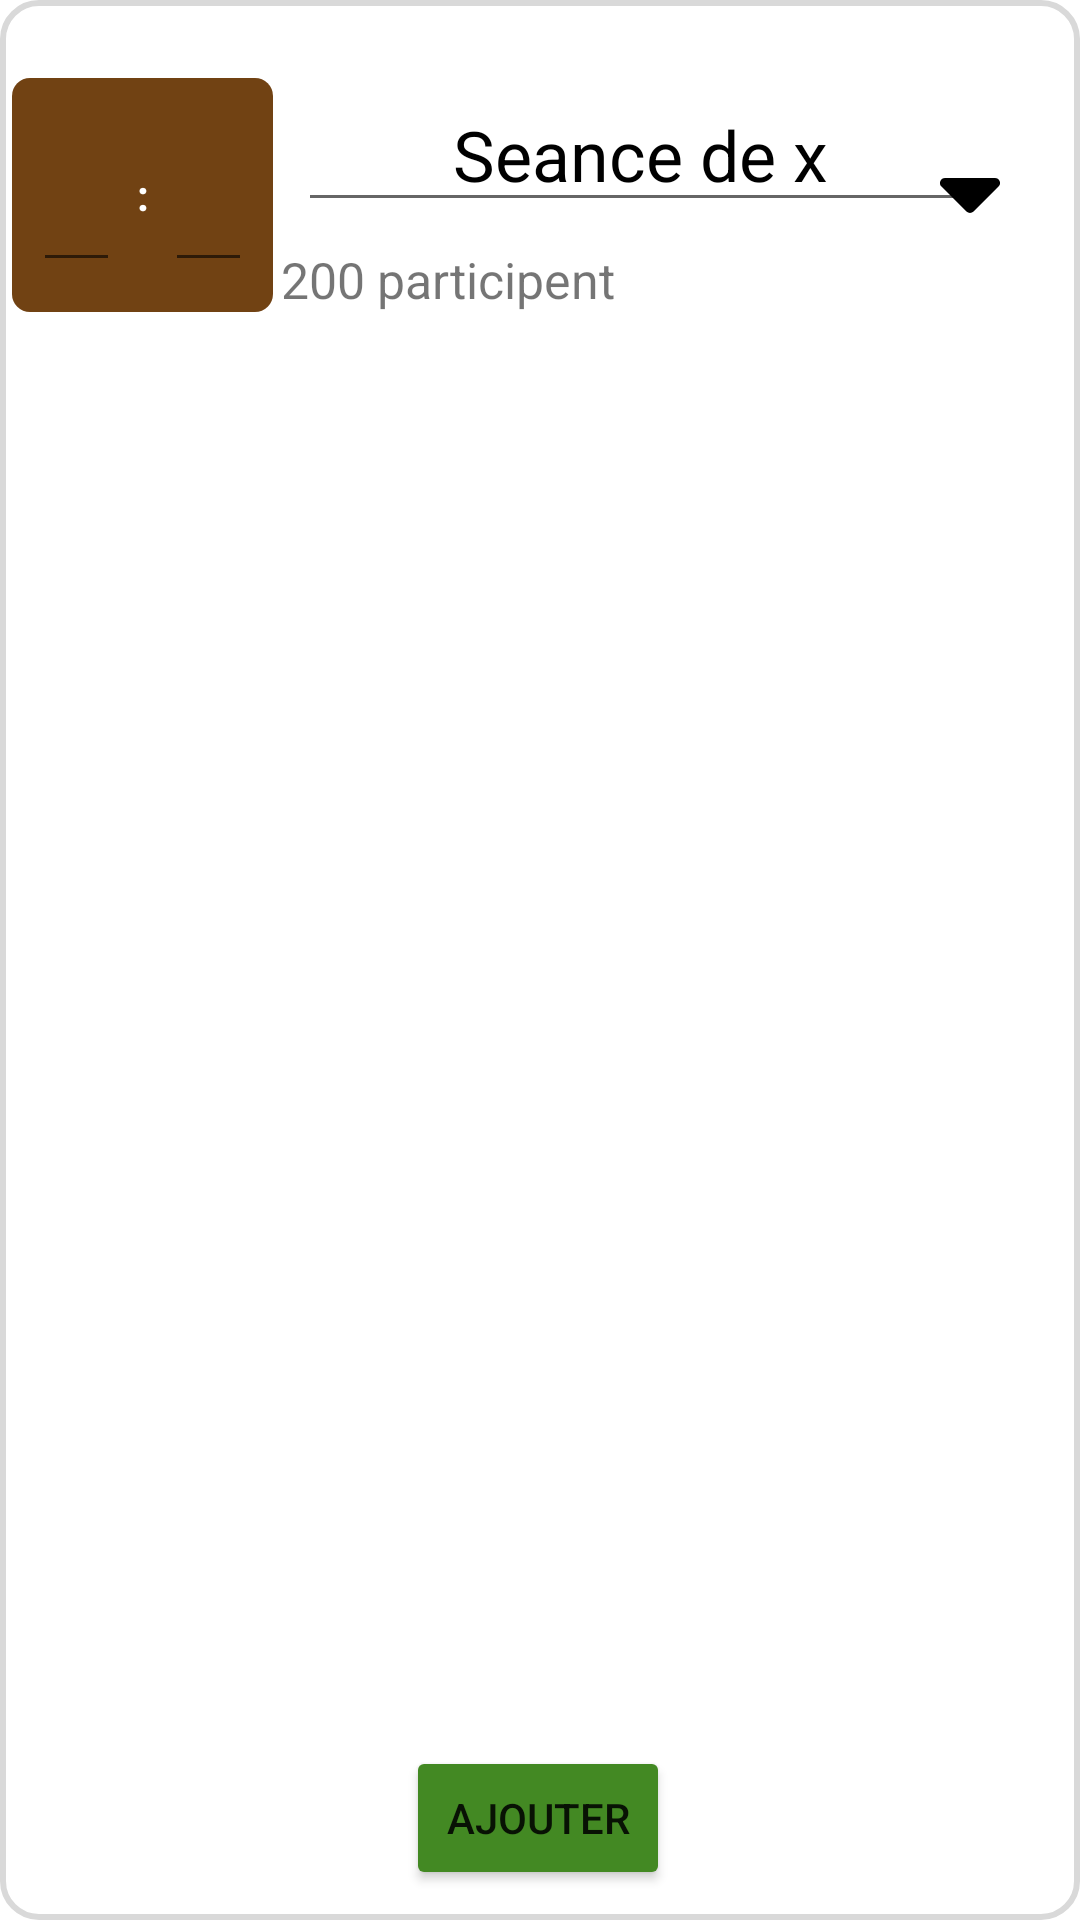

Where icons sit on this 1080×1920 app screen, as (x1, y1, x2, y2):
drop down: (920, 178, 1000, 213)
